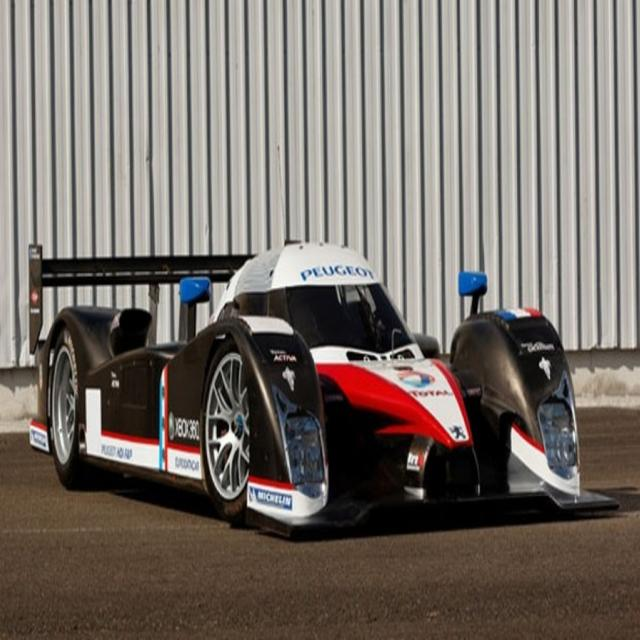car: (28, 239, 496, 527)
